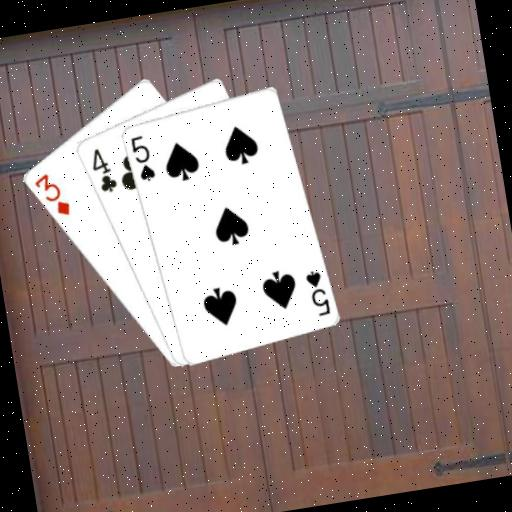3D: (29, 167, 73, 221)
4C: (85, 142, 119, 196)
5S: (126, 130, 157, 184), (301, 265, 332, 319)
